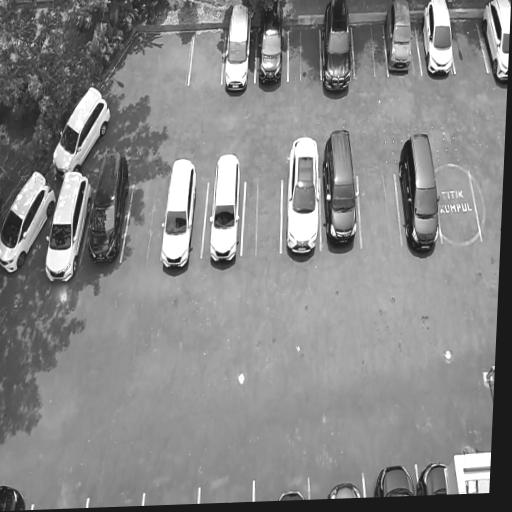Car: (0, 163, 60, 291), (47, 73, 115, 183), (397, 121, 444, 263), (39, 172, 95, 288), (82, 145, 135, 266), (281, 128, 326, 260), (318, 125, 361, 257), (158, 155, 202, 279), (207, 146, 244, 274), (320, 0, 356, 98), (223, 0, 255, 103), (255, 1, 288, 96), (422, 0, 456, 84), (482, 0, 511, 91), (387, 0, 414, 81), (375, 462, 417, 497), (418, 462, 455, 495), (0, 480, 30, 512), (328, 480, 363, 499), (276, 489, 306, 501)
Space Available: (122, 178, 168, 262), (436, 167, 482, 241), (241, 173, 282, 254), (358, 172, 402, 246), (473, 161, 503, 242), (451, 16, 488, 75), (353, 17, 388, 78), (188, 26, 225, 82), (288, 21, 320, 79)
